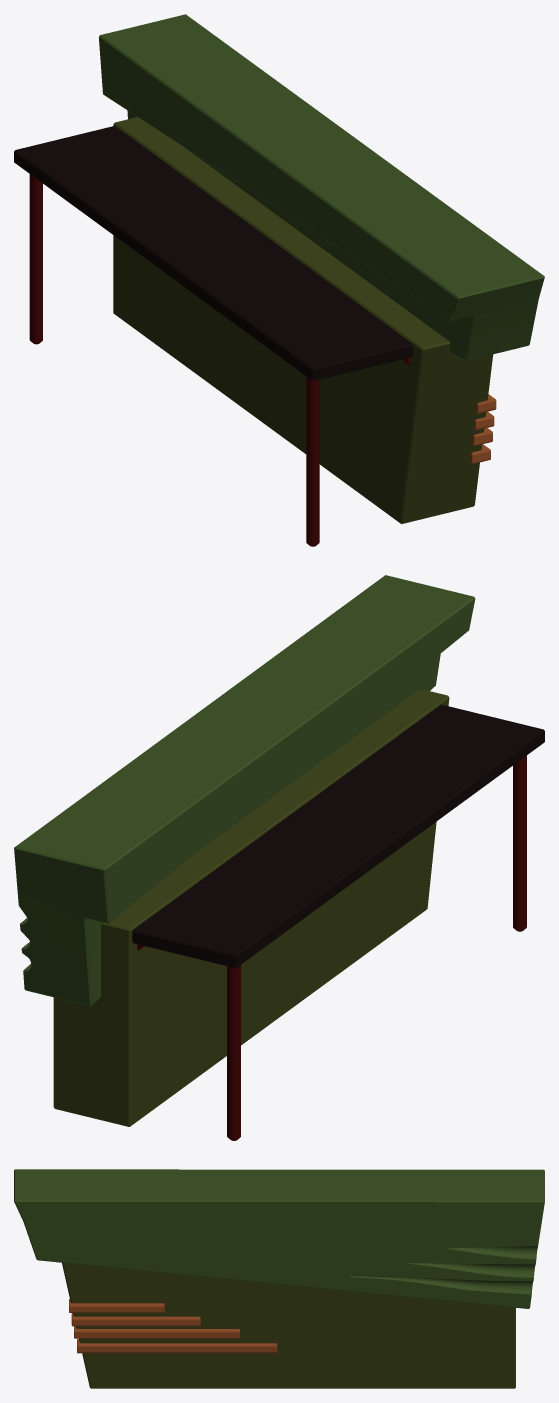
The model's file is Receptiontable.obj.
The picture shows the model from 3 angles, top to bottom: view 1: azimuth 30°, elevation 25°; view 2: azimuth 150°, elevation 25°; view 3: azimuth 270°, elevation 25°; orthographic projection. The views are drawn at different scales.
Parts seen in each view (by area): view 1: pCube27; view 2: pCube27; view 3: pCube27.
Boxes of the visible parts, x1,y1,x2,y2 form: pCube27: (14,14,544,546); pCube27: (14,575,544,1140); pCube27: (14,1169,544,1388).
Size of the model in its own units: 1.73 by 2.25 by 5.54.
